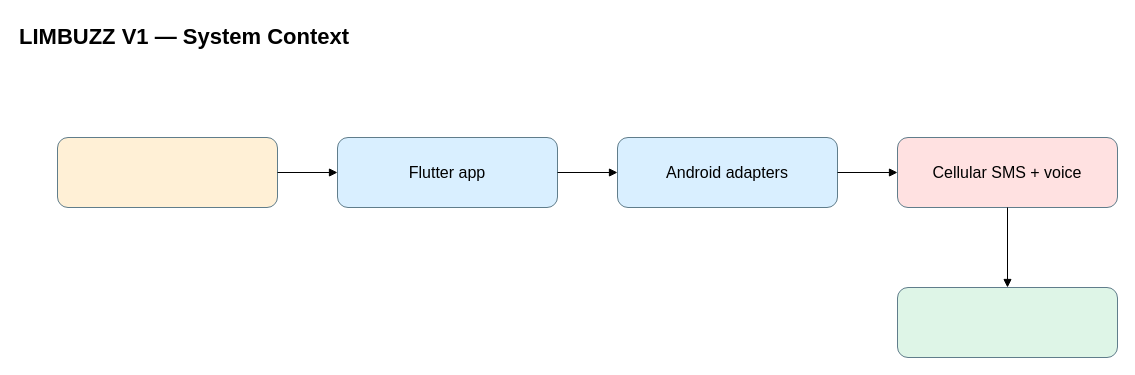
The diagram is 1135 pixels wide and 375 high, and some of its shapes have lost their labels. The box of each missing label's shape, as (x1, y1, x2, y2) in pixels:
Emergency contacts: (896, 286, 1118, 358)
User: (56, 136, 278, 208)
